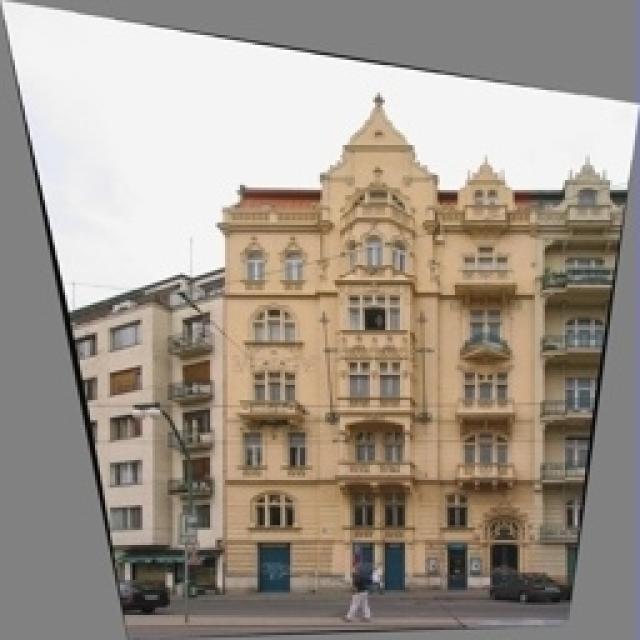building: (212, 93, 640, 625), (0, 260, 212, 600)
